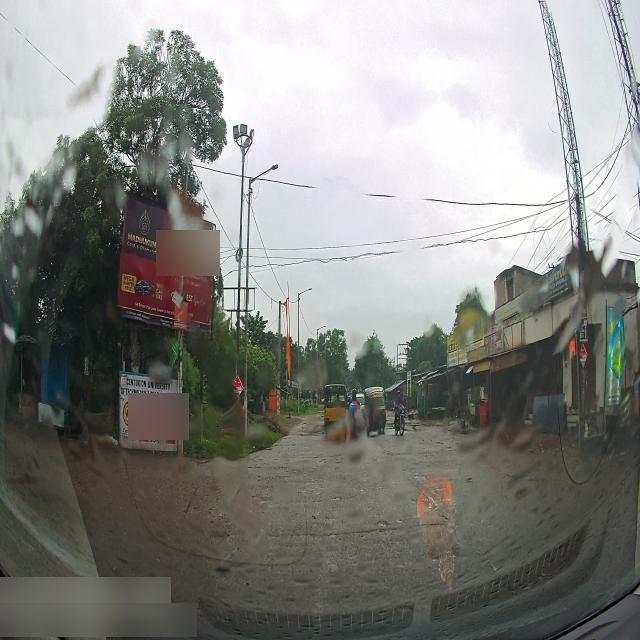pothole: (376, 514, 394, 529)
